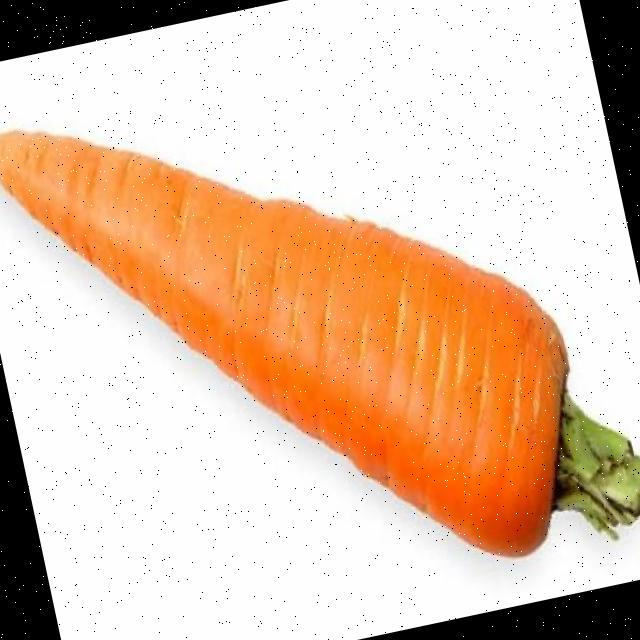carrot: (0, 130, 640, 555)
